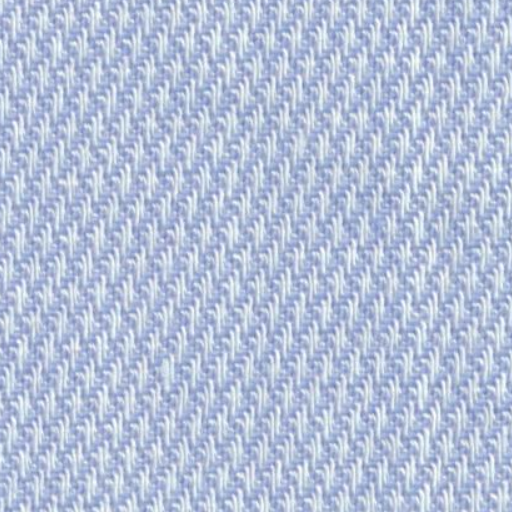TuoSha: (354, 26, 480, 499)
